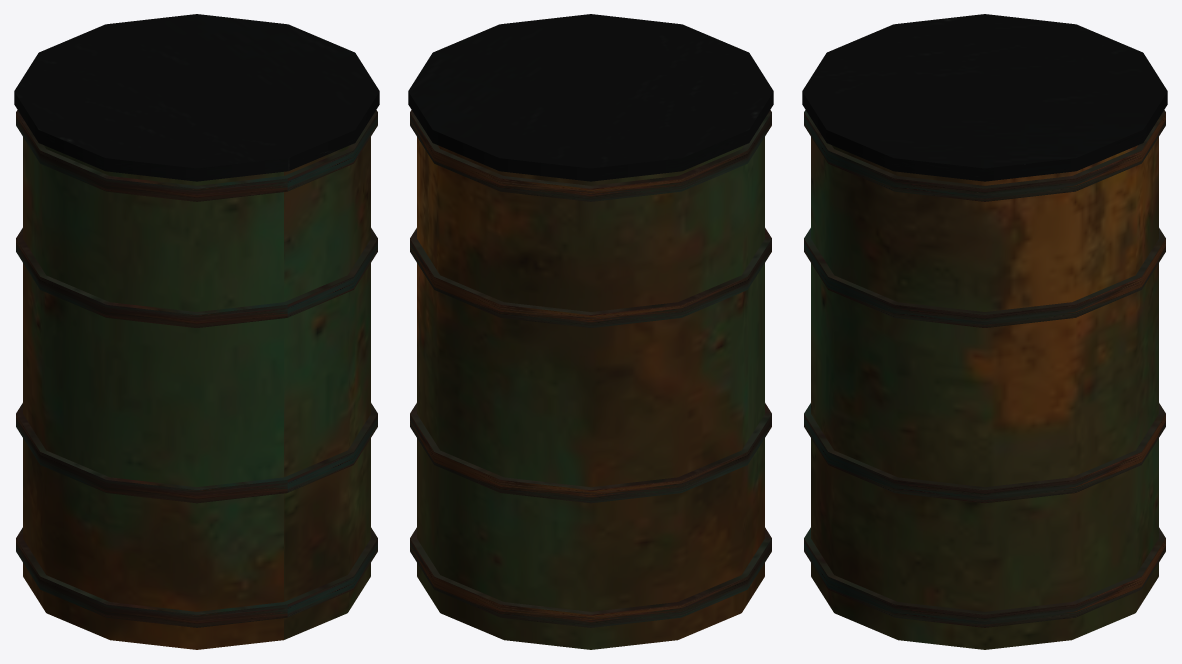
The model's file is loose_drum.glb.
The picture shows the model from 3 angles, left to right: view 1: azimuth 30°, elevation 25°; view 2: azimuth 150°, elevation 25°; view 3: azimuth 270°, elevation 25°; orthographic projection.
Parts seen in each view (by area): view 1: RustedMetalShell, LooseLid, RolledMetalRib, _MeshInstance3D_39844, _MeshInstance3D_39845, _MeshInstance3D_39846; view 2: RustedMetalShell, LooseLid, RolledMetalRib, _MeshInstance3D_39844, _MeshInstance3D_39845, _MeshInstance3D_39846; view 3: RustedMetalShell, LooseLid, RolledMetalRib, _MeshInstance3D_39844, _MeshInstance3D_39845, _MeshInstance3D_39846.
Part boxes in pixels (x1=…): RustedMetalShell: x1=23, y1=137, x2=370, y2=649; LooseLid: x1=14, y1=14, x2=379, y2=181; RolledMetalRib: x1=16, y1=527, x2=377, y2=627; _MeshInstance3D_39844: x1=16, y1=403, x2=377, y2=503; _MeshInstance3D_39845: x1=16, y1=228, x2=377, y2=327; _MeshInstance3D_39846: x1=16, y1=110, x2=377, y2=201; RustedMetalShell: x1=417, y1=137, x2=764, y2=649; LooseLid: x1=408, y1=14, x2=773, y2=181; RolledMetalRib: x1=410, y1=527, x2=771, y2=627; _MeshInstance3D_39844: x1=410, y1=403, x2=771, y2=503; _MeshInstance3D_39845: x1=410, y1=228, x2=771, y2=327; _MeshInstance3D_39846: x1=410, y1=110, x2=771, y2=201; RustedMetalShell: x1=811, y1=137, x2=1158, y2=649; LooseLid: x1=802, y1=14, x2=1167, y2=181; RolledMetalRib: x1=804, y1=527, x2=1165, y2=627; _MeshInstance3D_39844: x1=804, y1=403, x2=1165, y2=503; _MeshInstance3D_39845: x1=804, y1=228, x2=1165, y2=327; _MeshInstance3D_39846: x1=804, y1=110, x2=1165, y2=201.
Size of the model in its own units: 0.63 by 0.9225 by 0.63.
3 materials, 3 textured.
